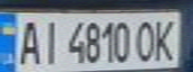0: (115, 18, 133, 63)
1: (100, 18, 118, 63)
4: (63, 17, 87, 64)
8: (81, 18, 103, 64)
A: (12, 16, 42, 66)
I: (36, 16, 63, 65)
K: (151, 16, 181, 62)
O: (133, 17, 160, 63)
